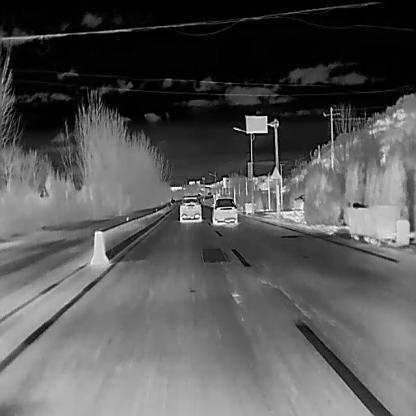car: (212, 197, 237, 224), (178, 195, 202, 221), (170, 198, 175, 204), (207, 191, 210, 194), (197, 194, 201, 196)
